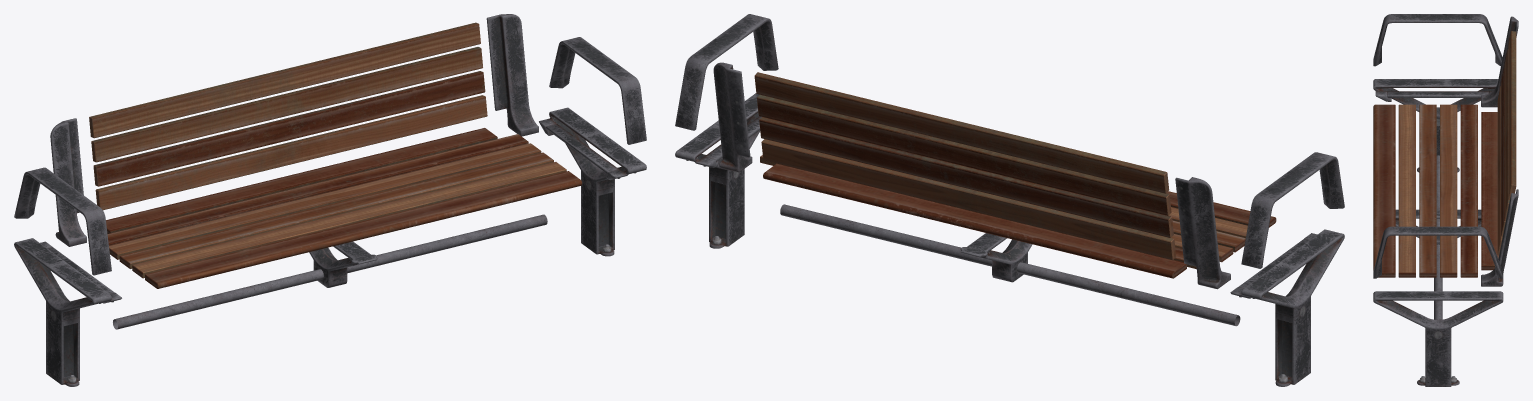
File: modular_street_seating_1k.gltf
3 views of the same model, side by side, from view 1: azimuth 30°, elevation 25°; view 2: azimuth 150°, elevation 25°; view 3: azimuth 270°, elevation 25° (orthographic). The views are drawn at different scales.
Parts seen in each view (by area): view 1: seat_back, seat, legs_single, legs_single_r, crossbar, back_support_l, arm_rest_01, arm_rest_01_r, back_support_r, suspended_support_01; view 2: seat_back, seat, legs_single, crossbar, legs_single_r, arm_rest_01, arm_rest_01_r, back_support_r, back_support_l, suspended_support_01; view 3: seat, legs_single_r, seat_back, legs_single, arm_rest_01_r, arm_rest_01, back_support_l, crossbar, back_support_r, suspended_support_01.
Boxes of the visible parts, left/top/right/bottom form: seat_back: left=89, top=22, right=487, bottom=210; seat: left=106, top=128, right=582, bottom=288; legs_single: left=14, top=238, right=121, bottom=386; legs_single_r: left=539, top=107, right=646, bottom=256; crossbar: left=113, top=214, right=547, bottom=329; back_support_l: left=486, top=14, right=538, bottom=136; arm_rest_01: left=14, top=167, right=111, bottom=275; arm_rest_01_r: left=549, top=37, right=646, bottom=144; back_support_r: left=50, top=118, right=86, bottom=246; suspended_support_01: left=309, top=241, right=377, bottom=287; seat_back: left=754, top=72, right=1176, bottom=260; seat: left=760, top=155, right=1276, bottom=278; legs_single: left=1230, top=229, right=1344, bottom=386; crossbar: left=780, top=204, right=1240, bottom=326; legs_single_r: left=675, top=93, right=761, bottom=248; arm_rest_01: left=1241, top=152, right=1344, bottom=268; arm_rest_01_r: left=675, top=14, right=778, bottom=130; back_support_r: left=1175, top=177, right=1230, bottom=289; back_support_l: left=713, top=62, right=752, bottom=172; suspended_support_01: left=960, top=233, right=1032, bottom=282; seat: left=1373, top=104, right=1498, bottom=277; legs_single_r: left=1373, top=291, right=1503, bottom=386; seat_back: left=1497, top=31, right=1516, bottom=255; legs_single: left=1373, top=79, right=1498, bottom=172; arm_rest_01_r: left=1373, top=226, right=1503, bottom=278; arm_rest_01: left=1373, top=14, right=1502, bottom=66; back_support_l: left=1481, top=189, right=1518, bottom=286; crossbar: left=1434, top=155, right=1442, bottom=319; back_support_r: left=1481, top=16, right=1518, bottom=107; suspended_support_01: left=1395, top=209, right=1481, bottom=244.
Size of the model in its own units: 2.4 by 0.8669 by 0.6704.
4 materials, 4 textured.
